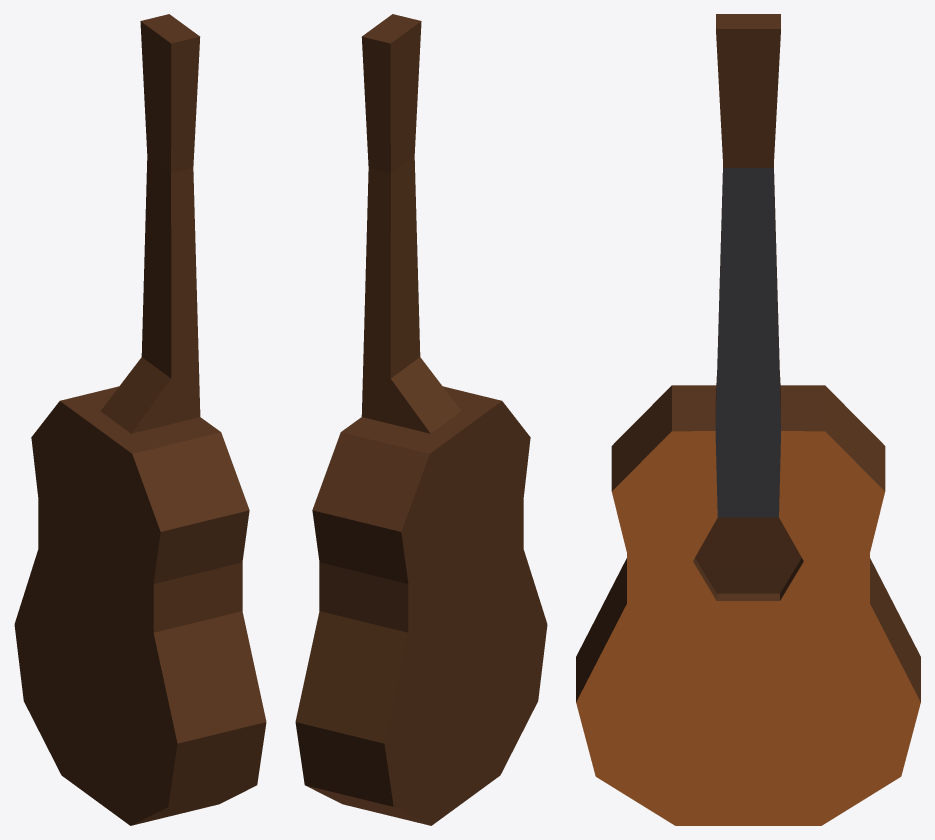
Rendered from guitar.fbx.
The picture shows the model from 3 angles, left to right: view 1: azimuth 30°, elevation 25°; view 2: azimuth 150°, elevation 25°; view 3: azimuth 270°, elevation 25°; orthographic projection. The views are drawn at different scales.
Visible parts, largest first — view 1: guitar; view 2: guitar; view 3: guitar.
Part boxes in pixels (x1,y1,x2,y2): guitar: (14, 14, 266, 825); guitar: (295, 14, 547, 825); guitar: (576, 14, 920, 825).
Bounding box in the file's own units: 0.126 × 1.02 × 0.4.
